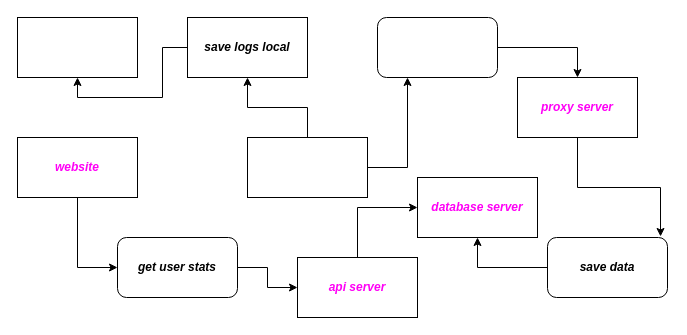
This 687x335 diagram has some shape labels left out. Here are the shapes that lost their labels. From the top down, the centre of each, then its label:
At (77,47): "local stats".
At (437,47): "axios post".
At (307,167): "NodeSpeed cli".
